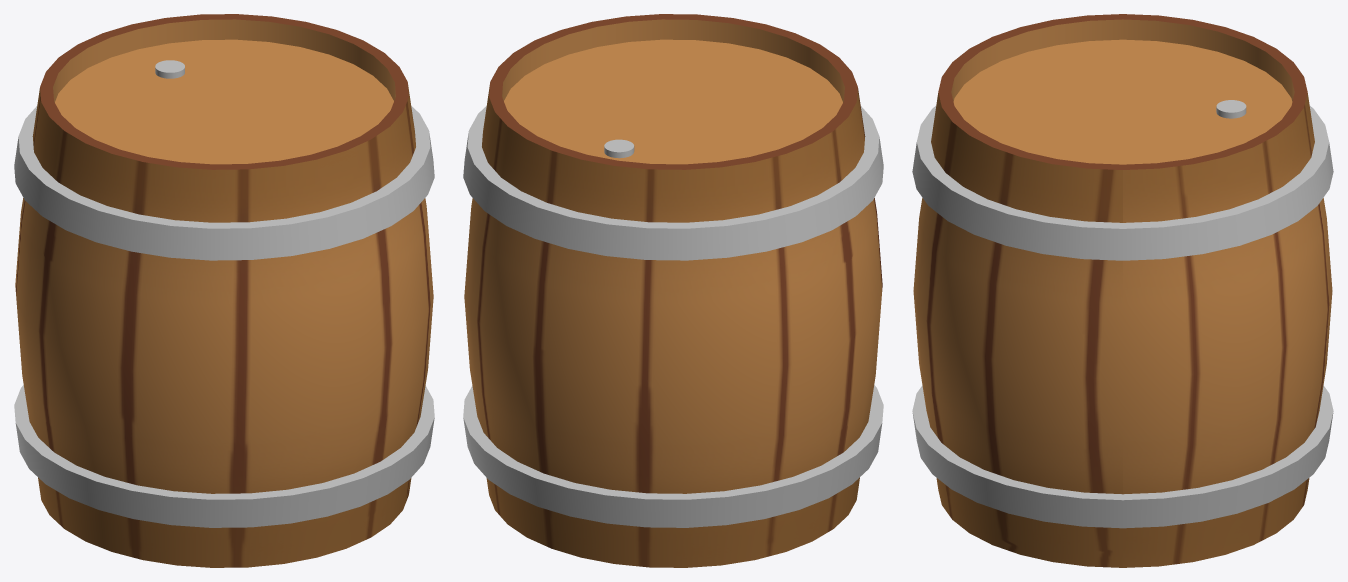
File: Oil Barrel.fbx
3 views of the same model, side by side, from view 1: azimuth 30°, elevation 25°; view 2: azimuth 150°, elevation 25°; view 3: azimuth 270°, elevation 25° (orthographic).
Visible parts, largest first — view 1: Cylinder, Cylinder.001; view 2: Cylinder, Cylinder.001; view 3: Cylinder, Cylinder.001.
Part boxes in pixels (box(x1,y1,x2,y2)): Cylinder: box(15, 14, 433, 567); Cylinder.001: box(14, 106, 434, 527); Cylinder: box(464, 14, 882, 567); Cylinder.001: box(463, 106, 883, 527); Cylinder: box(913, 14, 1332, 567); Cylinder.001: box(912, 106, 1333, 528).
Size of the model in its own units: 363 by 379 by 363.
